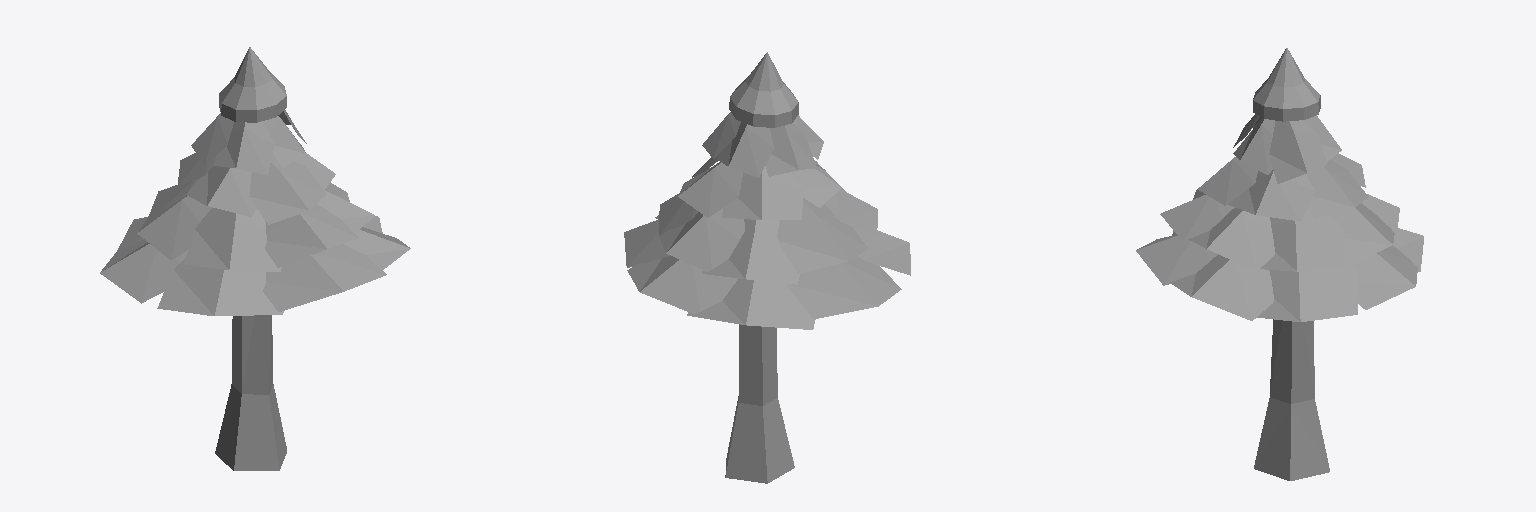
The model's file is farm_tree_01.obj.
The picture shows the model from 3 angles: view 1: azimuth 30°, elevation 25°; view 2: azimuth 150°, elevation 25°; view 3: azimuth 270°, elevation 25°; orthographic projection.
Parts seen in each view (by area): view 1: farm_tree_farm_tree_mesh; view 2: farm_tree_farm_tree_mesh; view 3: farm_tree_farm_tree_mesh.
Part boxes in pixels (left/top/right/bottom): farm_tree_farm_tree_mesh: left=100, top=47, right=410, bottom=470; farm_tree_farm_tree_mesh: left=624, top=52, right=910, bottom=483; farm_tree_farm_tree_mesh: left=1136, top=48, right=1423, bottom=480.
Size of the model in its own units: 2.27 by 3.37 by 2.13.